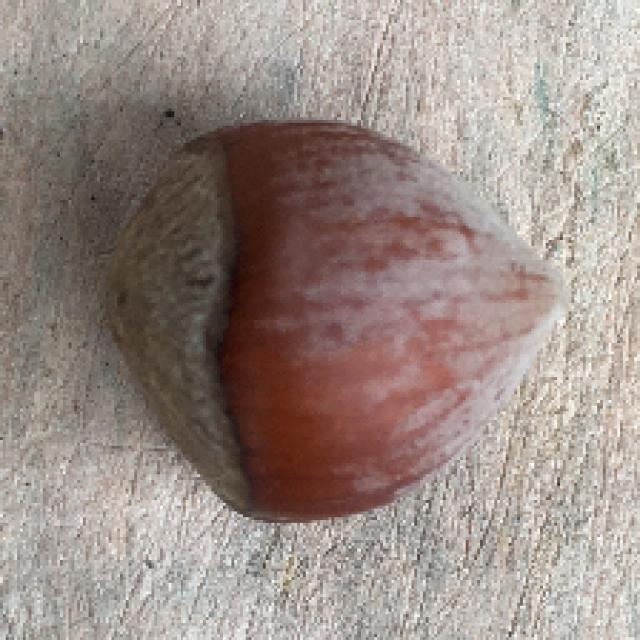qualityHazelnut: (79, 97, 569, 538)
